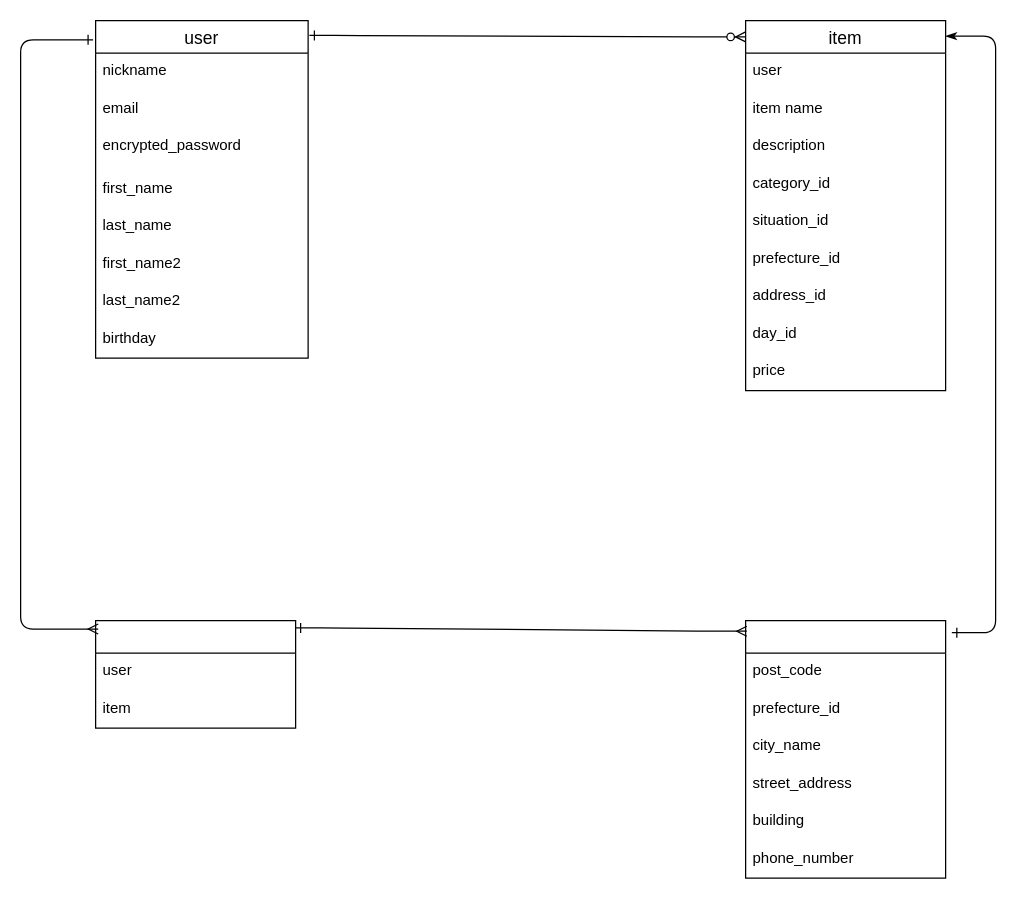
Some shapes in this 1016 by 899 pixel diagram are drawn without their labels. Each missing label, with the box of its shape:
Purchase_history: (744, 619, 946, 878)
send: (94, 619, 296, 728)
